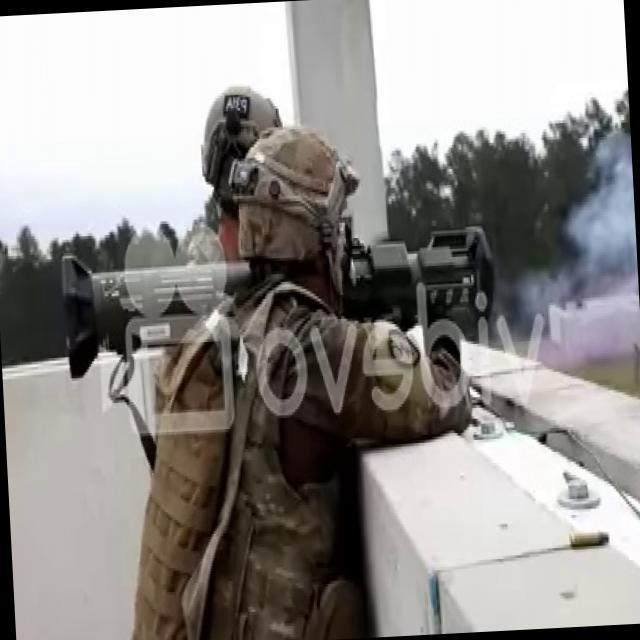rocket: (61, 210, 488, 368)
